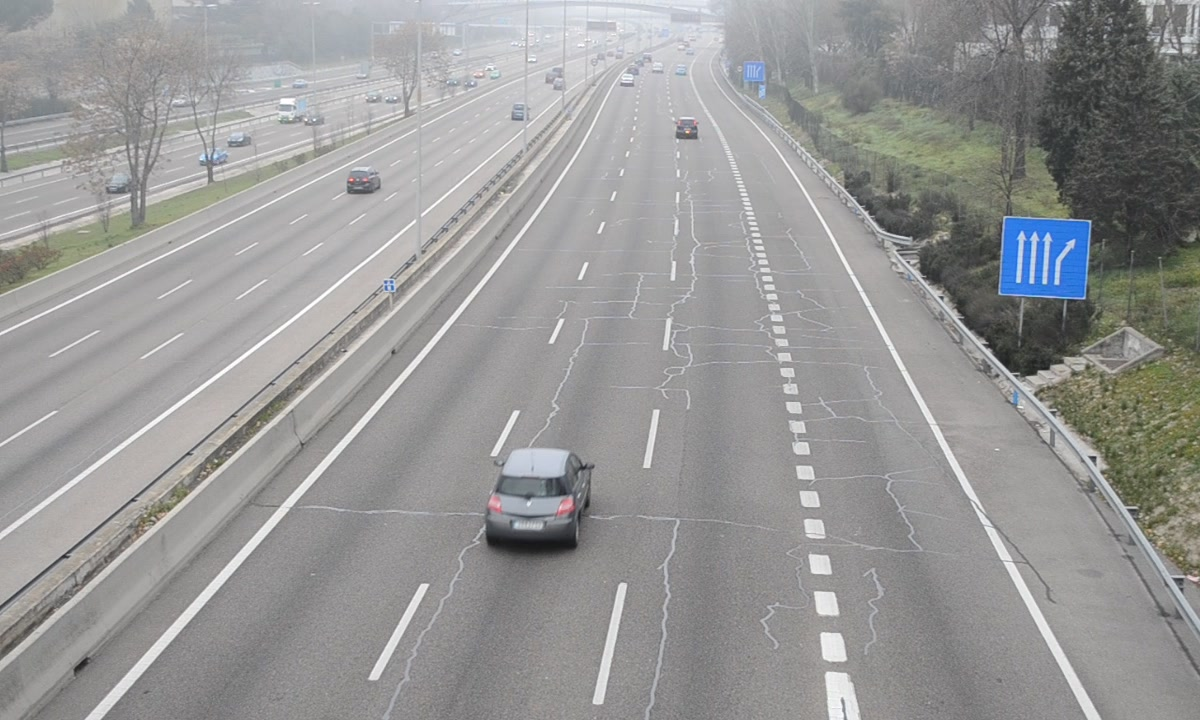car: (485, 450, 588, 545), (676, 115, 698, 139)
